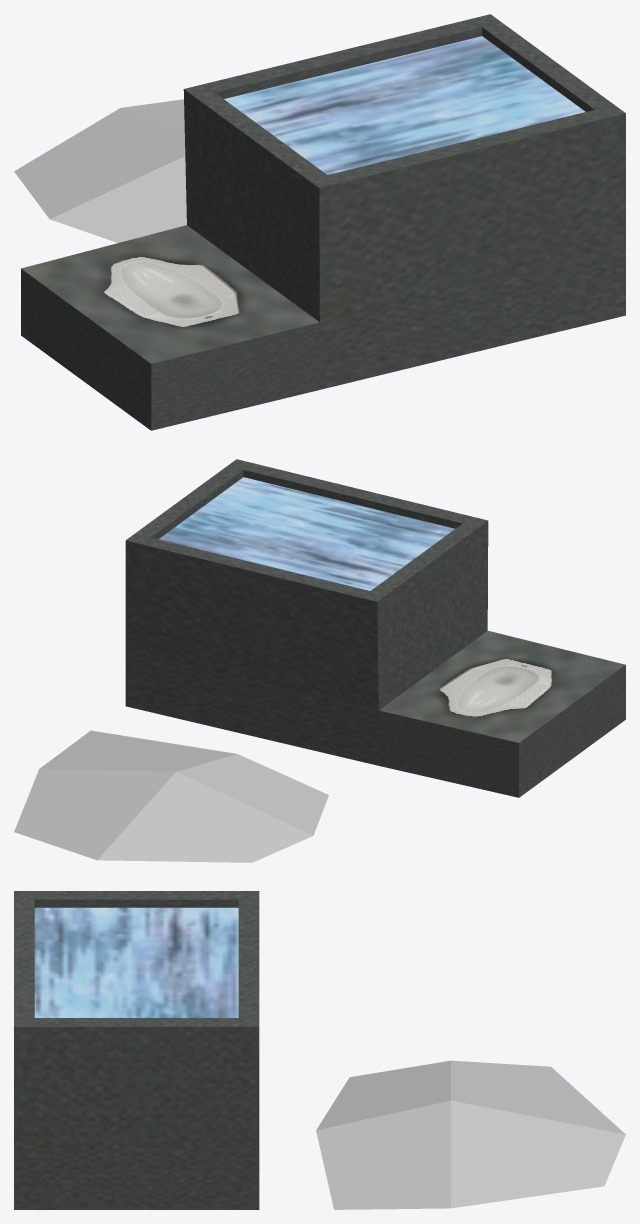
File: Asset Main Building_V2.fbx_Kamar_Mandi.fbx
The picture shows the model from 3 angles, top to bottom: view 1: azimuth 30°, elevation 25°; view 2: azimuth 150°, elevation 25°; view 3: azimuth 270°, elevation 25°; orthographic projection. The views are drawn at different scales.
Parts seen in each view (by area): view 1: Kloset, Pakaian kotor; view 2: Kloset, Pakaian kotor; view 3: Kloset, Pakaian kotor.
Part boxes in pixels (box(x1,y1,x2,y2)): Kloset: box(21, 14, 625, 430); Pakaian kotor: box(14, 99, 186, 242); Kloset: box(125, 459, 625, 797); Pakaian kotor: box(14, 730, 328, 862); Kloset: box(14, 891, 259, 1209); Pakaian kotor: box(316, 1060, 625, 1209).
Bounding box in the file's own units: 2007 × 818 × 2467.
